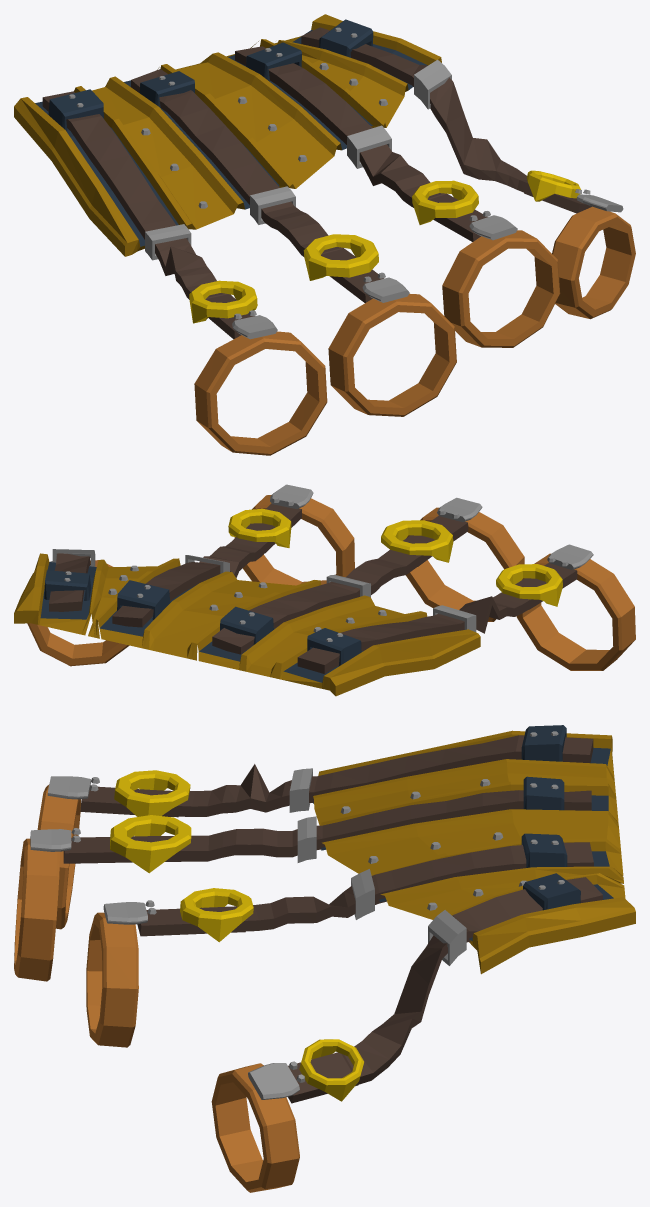
Rendered from tendon-harness-6ef893.glb.
The picture shows the model from 3 angles, top to bottom: view 1: azimuth 30°, elevation 25°; view 2: azimuth 150°, elevation 25°; view 3: azimuth 270°, elevation 25°; orthographic projection. The views are drawn at different scales.
Visible parts, largest first — view 1: middle-finger-metacarpal, middle-finger-phalanx-proximal, index-finger-phalanx-proximal, ring-finger-phalanx-proximal, pinky-finger-phalanx-proximal, soft:middle-finger, soft:index-finger, soft:ring-finger, soft:pinky-finger; view 2: middle-finger-metacarpal, index-finger-phalanx-proximal, middle-finger-phalanx-proximal, ring-finger-phalanx-proximal, soft:middle-finger, soft:index-finger, soft:ring-finger, pinky-finger-phalanx-proximal, soft:pinky-finger; view 3: middle-finger-metacarpal, pinky-finger-phalanx-proximal, ring-finger-phalanx-proximal, soft:index-finger, middle-finger-phalanx-proximal, soft:middle-finger, soft:ring-finger, soft:pinky-finger, index-finger-phalanx-proximal.
Boxes of the visible parts, x1=… form: middle-finger-metacarpal: x1=14, y1=14, x2=451, y2=260; middle-finger-phalanx-proximal: x1=303, y1=234, x2=456, y2=416; index-finger-phalanx-proximal: x1=189, y1=280, x2=327, y2=455; ring-finger-phalanx-proximal: x1=412, y1=180, x2=560, y2=347; pinky-finger-phalanx-proximal: x1=526, y1=170, x2=635, y2=319; soft:middle-finger: x1=131, y1=69, x2=383, y2=302; soft:index-finger: x1=42, y1=91, x2=254, y2=339; soft:ring-finger: x1=235, y1=46, x2=487, y2=241; soft:pinky-finger: x1=301, y1=27, x2=591, y2=213; middle-finger-metacarpal: x1=14, y1=549, x2=480, y2=696; index-finger-phalanx-proximal: x1=496, y1=544, x2=635, y2=670; middle-finger-phalanx-proximal: x1=381, y1=497, x2=524, y2=621; ring-finger-phalanx-proximal: x1=228, y1=484, x2=354, y2=585; soft:middle-finger: x1=212, y1=515, x2=468, y2=654; soft:index-finger: x1=297, y1=563, x2=577, y2=673; soft:ring-finger: x1=112, y1=503, x2=301, y2=627; pinky-finger-phalanx-proximal: x1=27, y1=560, x2=129, y2=666; soft:pinky-finger: x1=49, y1=553, x2=90, y2=611; middle-finger-metacarpal: x1=289, y1=725, x2=635, y2=974; pinky-finger-phalanx-proximal: x1=211, y1=1039, x2=364, y2=1192; ring-finger-phalanx-proximal: x1=86, y1=888, x2=253, y2=1047; soft:index-finger: x1=80, y1=735, x2=593, y2=817; middle-finger-phalanx-proximal: x1=14, y1=815, x2=191, y2=981; soft:middle-finger: x1=63, y1=790, x2=591, y2=863; soft:ring-finger: x1=137, y1=842, x2=593, y2=936; soft:pinky-finger: x1=288, y1=877, x2=602, y2=1103; index-finger-phalanx-proximal: x1=37, y1=770, x2=190, y2=929.
Bounding box in the file's own units: 0.1002 × 0.0389 × 0.0911.
